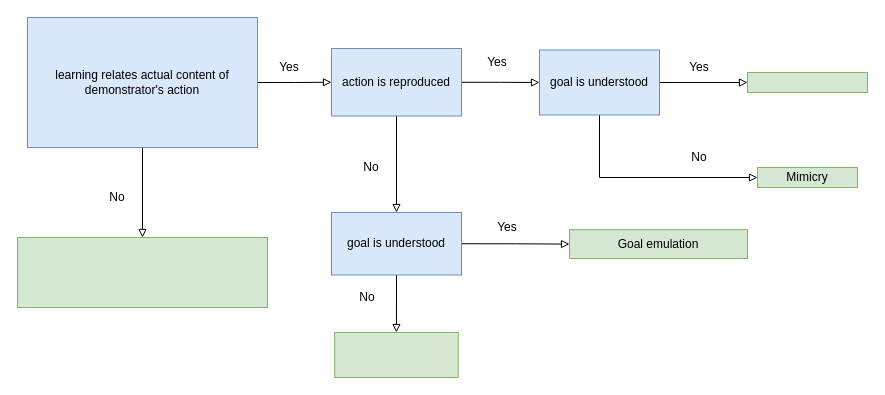
Image size: 885x395. Some labels were removed from this diagram. The shapes that lost their labels are listed below. From the top down, each one's centre as x and y in pixels, then its label:
At pixel 807 82: "Imitation".
At pixel 142 272: "exposure stimuli enhancement".
At pixel 396 355: "Emulation".
